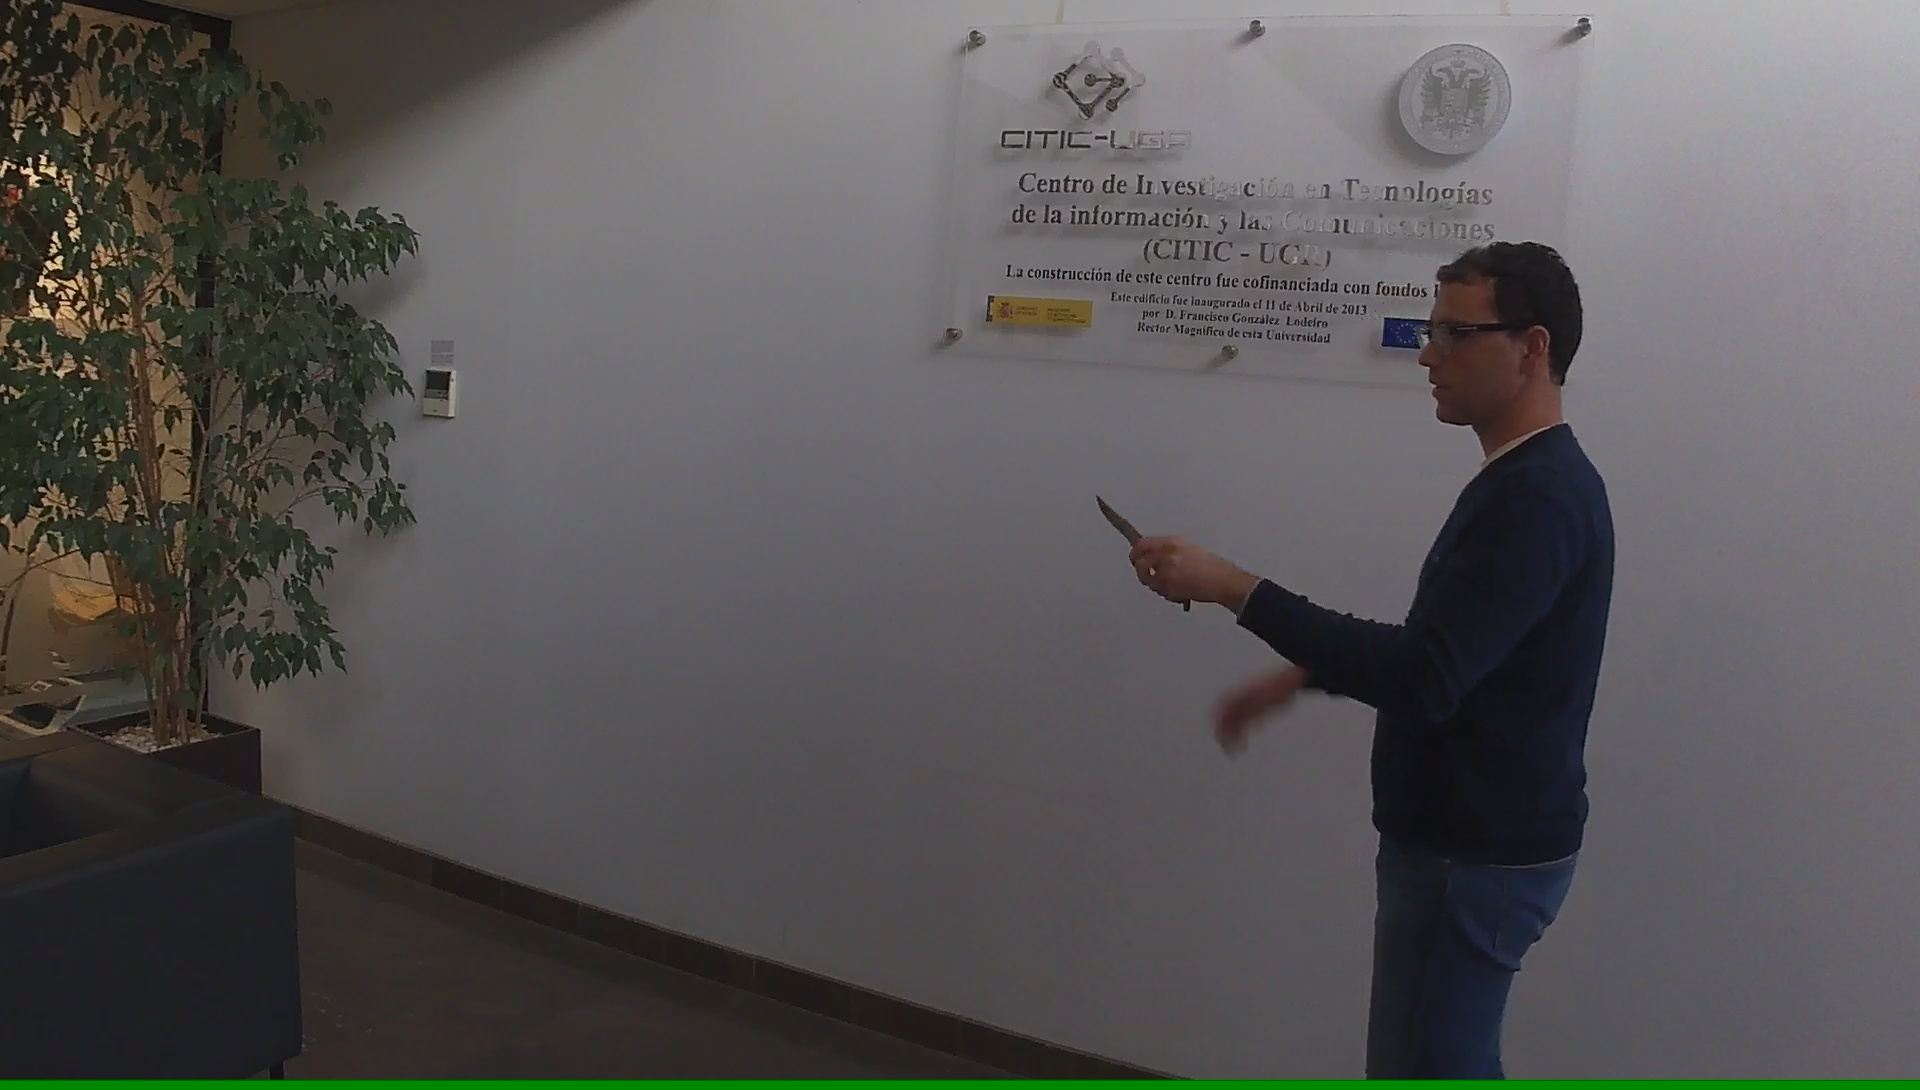knife: (1087, 486, 1199, 619)
